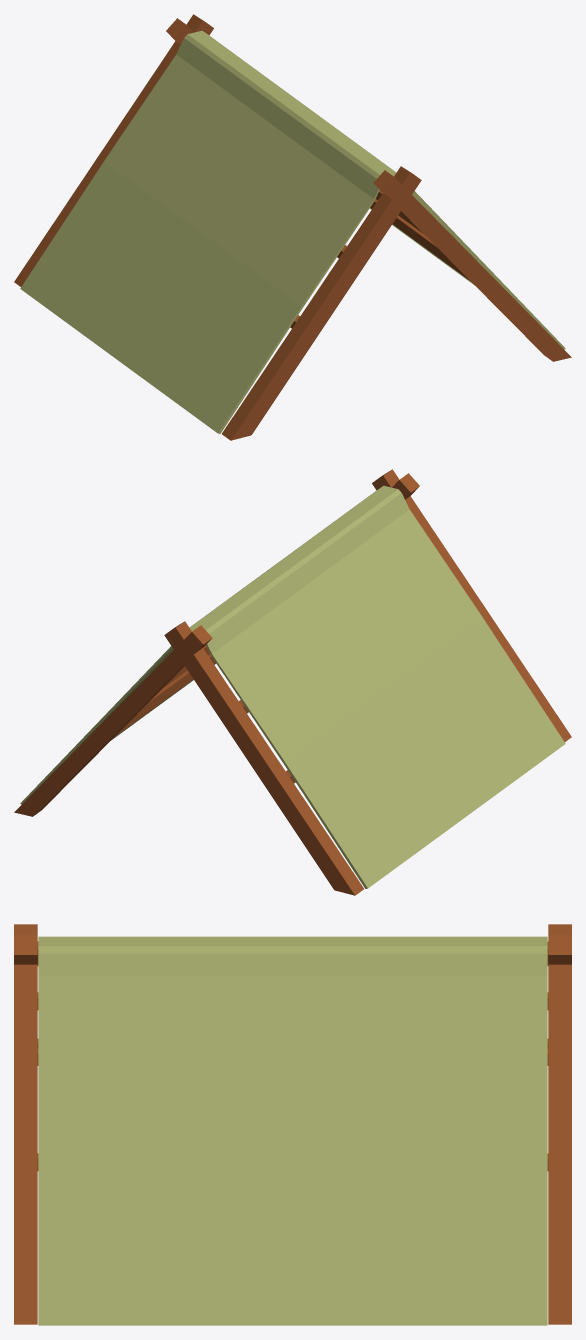
Rendered from Wood Tent 2.glb.
3 renders of one model, top to bottom at view 1: azimuth 30°, elevation 25°; view 2: azimuth 150°, elevation 25°; view 3: azimuth 270°, elevation 25°, orthographic. The views are drawn at different scales.
Visible parts, largest first — view 1: WoodTent2; view 2: WoodTent2; view 3: WoodTent2.
Boxes of the visible parts, bbox=[...] form: WoodTent2: bbox=[14, 14, 571, 440]; WoodTent2: bbox=[14, 469, 571, 895]; WoodTent2: bbox=[14, 924, 571, 1325].
Size of the model in its own units: 1.94 by 1.19 by 2.09.
